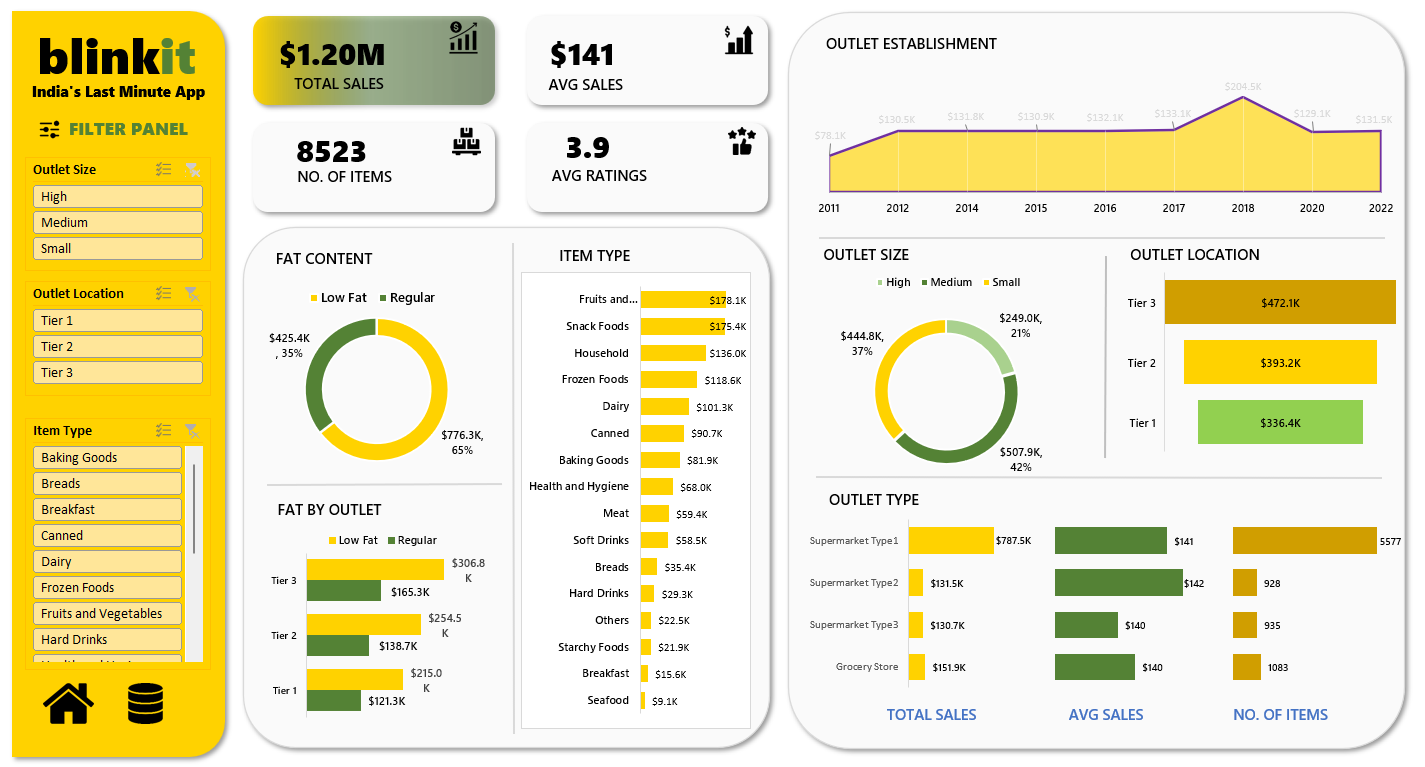

This screenshot's page, from the dashboard's own definition file:
{"tool":"powerbi","page":{"name":"Blinkit Analysis","canvas":[1400,800],"ordinal":0},"visuals":[{"type":"shape","box":[12.9,25.7,200,750],"z":0},{"type":"textbox","box":[31.4,100,171.4,34.3],"z":1000},{"type":"textbox","box":[25.7,41.4,167.1,75.7],"z":2000},{"type":"cardVisual","fields":{"Data":["BlinkIT Grocery Data.Total Sale","BlinkIT Grocery Data.Avg Sales","BlinkIT Grocery Data.No of Items","BlinkIT Grocery Data.Avg Rating"]},"box":[212.9,25.7,570,270],"z":3000},{"type":"shape","box":[217.1,285.7,561.4,490],"z":4000},{"type":"donutChart","title":"FAT CONTENT","fields":{"Y":["BlinkIT Grocery Data.Total Sale"],"Category":["BlinkIT Grocery Data.Item Fat Content"]},"box":[235.7,335.7,220,230],"z":5000},{"type":"slicer","fields":{"Values":["Metrics.Metrics"]},"box":[265.7,295.7,465.7,40],"z":6000},{"type":"cardVisual","fields":{"Data":["BlinkIT Grocery Data.Total Sale"]},"box":[292.9,434.3,104.3,81.4],"z":7000},{"type":"clusteredBarChart","title":"FAT BY OUTLET","fields":{"Y":["BlinkIT Grocery Data.Total Sale"],"Category":["BlinkIT Grocery Data.Outlet Location Type"],"Series":["BlinkIT Grocery Data.Item Fat Content"]},"box":[235.7,555.7,220,230],"z":8000},{"type":"shape","box":[235.7,542.9,220,17.1],"z":9000},{"type":"shape","box":[455.7,347.1,17.1,414.3],"z":10000},{"type":"barChart","title":"ITEM TYPE","fields":{"Y":["BlinkIT Grocery Data.Total Sale"],"Category":["BlinkIT Grocery Data.Item Type"]},"box":[464.3,335.7,301.4,430],"z":11000},{"type":"shape","box":[782.9,25.7,617.1,750],"z":12000},{"type":"lineChart","title":"OUTLET ESTABLISHMENT","fields":{"Category":["BlinkIT Grocery Data.Outlet Establishment Year"],"Y":["BlinkIT Grocery Data.Total Sale"]},"box":[801.4,41.4,580,235.7],"z":13000},{"type":"shape","box":[801.4,268.6,580,27.1],"z":14000},{"type":"donutChart","title":"OUTLET SIZE","fields":{"Y":["BlinkIT Grocery Data.Total Sale"],"Category":["BlinkIT Grocery Data.Outlet Size"]},"box":[801.4,305.7,290,225.7],"z":15000},{"type":"shape","box":[1087.1,295.7,12.9,228.6],"z":16000},{"type":"funnel","title":"OUTLET LOCATION","fields":{"Y":["Sum(BlinkIT Grocery Data.Sales)"],"Category":["BlinkIT Grocery Data.Outlet Location Type"]},"box":[1100,305.7,281.4,217.1],"z":17000},{"type":"shape","box":[801.4,532.9,580,27.1],"z":18000},{"type":"pivotTable","title":"OUTLET TYPE","fields":{"Rows":["BlinkIT Grocery Data.Outlet Type"],"Values":["BlinkIT Grocery Data.Total Sale","BlinkIT Grocery Data.Avg Sales","BlinkIT Grocery Data.No of Items","BlinkIT Grocery Data.Avg Rating","Avg(BlinkIT Grocery Data.Item Visibility)"]},"box":[801.4,555.7,580,220],"z":19000},{"type":"slicer","fields":{"Values":["BlinkIT Grocery Data.Outlet Location Type"]},"box":[35.7,220,161.4,75.7],"z":20000},{"type":"slicer","fields":{"Values":["BlinkIT Grocery Data.Outlet Size"]},"box":[35.7,315.7,161.4,75.7],"z":21000},{"type":"slicer","fields":{"Values":["BlinkIT Grocery Data.Item Type"]},"box":[34.3,410,161.4,75.7],"z":22000},{"type":"textbox","box":[55.7,161.4,140,35.7],"z":23000},{"type":"image","box":[31.4,161.4,37.1,35.7],"z":24000},{"type":"image","box":[82.9,497.1,64.3,62.9],"z":25000},{"type":"image","box":[84.3,654.3,64.3,54.3],"z":26000},{"type":"image","box":[80,565.7,71.4,74.3],"z":27000}]}

Visuals, with their boxes on the page's 1400x800 design canvas (x1, y1, x2, y2). These are canvas units, not pixel positions in the 1425x767 screenshot, which may show the page scaled, cropped or inside an application window:
shape: (13,26,213,776)
textbox: (31,100,203,134)
textbox: (26,41,193,117)
cardVisual - BlinkIT Grocery Data.Total Sale x BlinkIT Grocery Data.Avg Sales: (213,26,783,296)
shape: (217,286,778,776)
"FAT CONTENT" donutChart: (236,336,456,566)
slicer - Metrics.Metrics: (266,296,731,336)
cardVisual - BlinkIT Grocery Data.Total Sale: (293,434,397,516)
"FAT BY OUTLET" clusteredBarChart: (236,556,456,786)
shape: (236,543,456,560)
shape: (456,347,473,761)
"ITEM TYPE" barChart: (464,336,766,766)
shape: (783,26,1400,776)
"OUTLET ESTABLISHMENT" lineChart: (801,41,1381,277)
shape: (801,269,1381,296)
"OUTLET SIZE" donutChart: (801,306,1091,531)
shape: (1087,296,1100,524)
"OUTLET LOCATION" funnel: (1100,306,1381,523)
shape: (801,533,1381,560)
"OUTLET TYPE" pivotTable: (801,556,1381,776)
slicer - BlinkIT Grocery Data.Outlet Location Type: (36,220,197,296)
slicer - BlinkIT Grocery Data.Outlet Size: (36,316,197,391)
slicer - BlinkIT Grocery Data.Item Type: (34,410,196,486)
textbox: (56,161,196,197)
image: (31,161,68,197)
image: (83,497,147,560)
image: (84,654,149,709)
image: (80,566,151,640)
